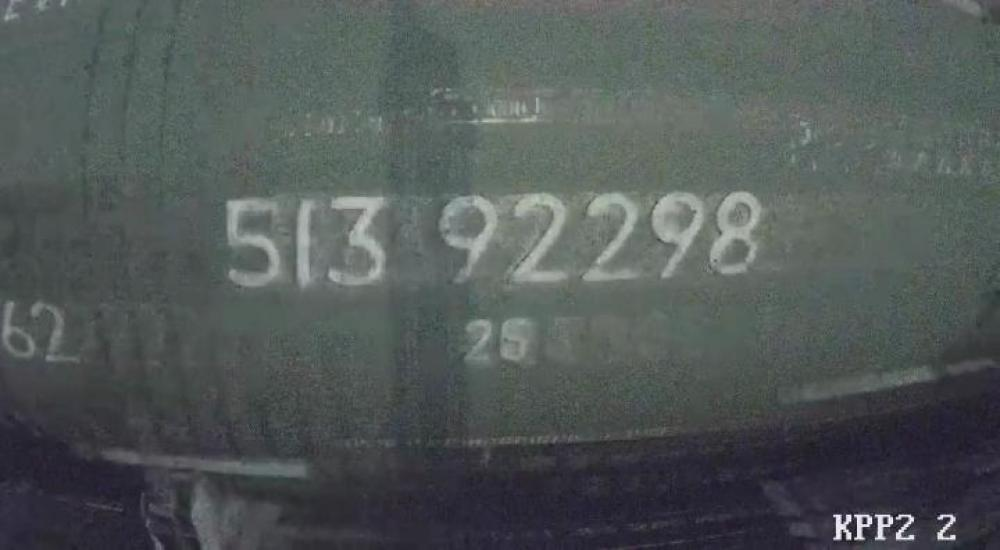Wagon-number: (215, 183, 777, 292)
